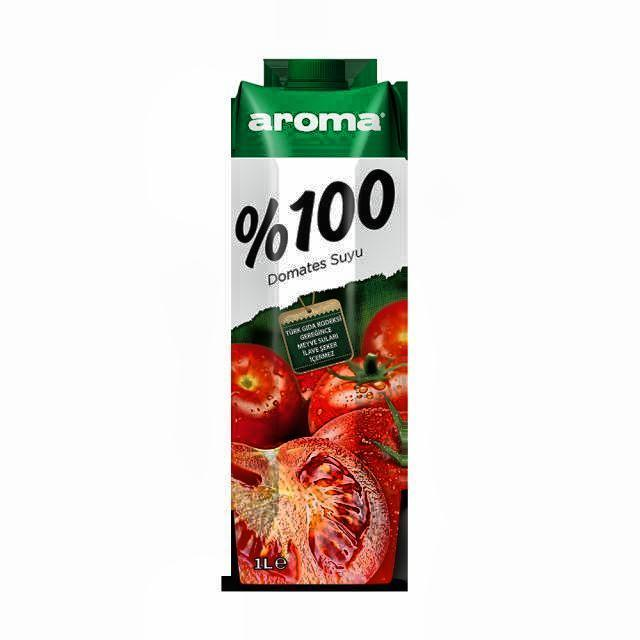cardboard: (231, 58, 408, 592)
